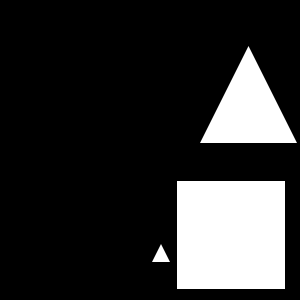circle: (177, 181, 285, 289)
triangle: (200, 46, 297, 143), (152, 244, 170, 262)
